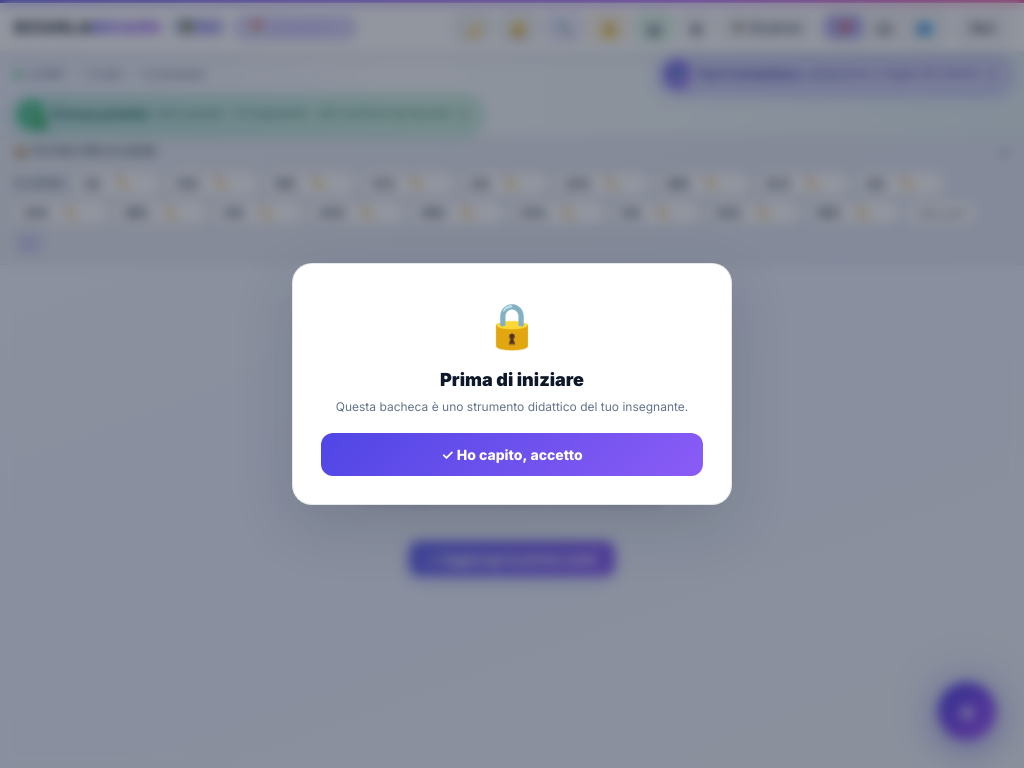
Consenso privacy su Firestore › accettare l'informativa scrive consensi/{uid} con versione e data
This screenshot has width=1024, height=768.
Click the button "✓ Ho capito, accetto" at (512, 454), box [321,433,703,476]
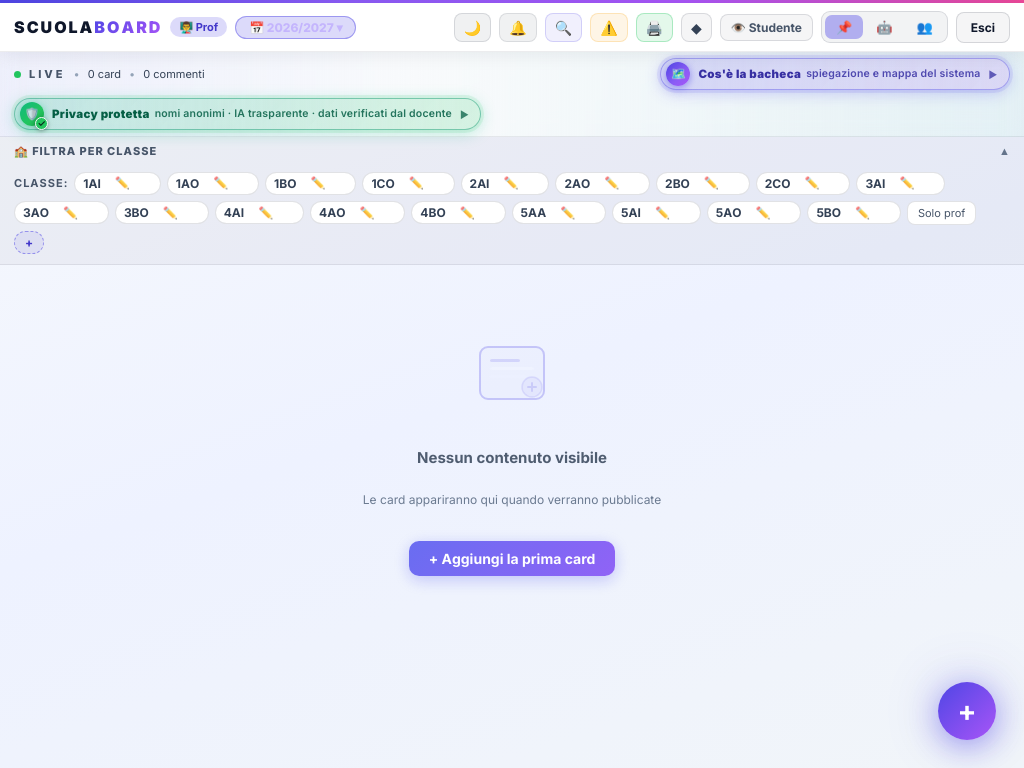
expect the button "Ho capito, accetto" is gone: met
